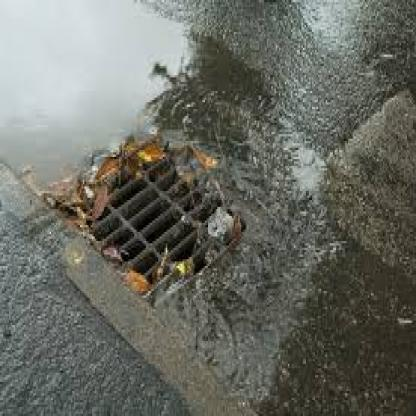open drainage-overflowing-: (25, 81, 288, 326)
